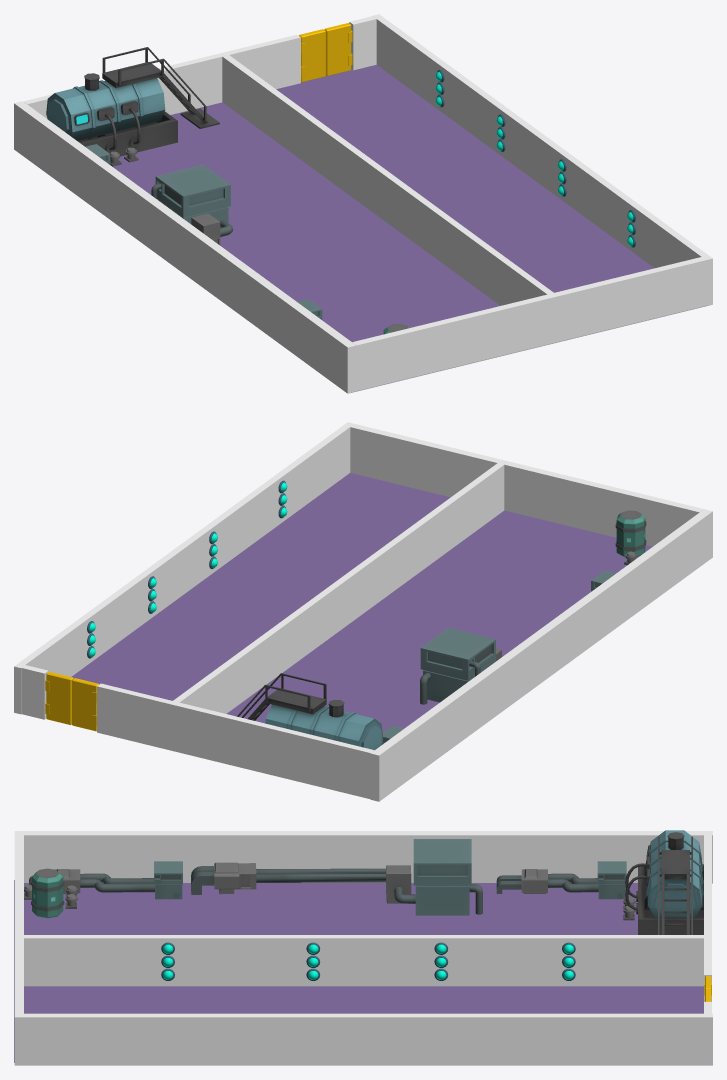
File: maps_37.fbx
The picture shows the model from 3 angles, top to bottom: view 1: azimuth 30°, elevation 25°; view 2: azimuth 150°, elevation 25°; view 3: azimuth 270°, elevation 25°; orthographic projection. The views are drawn at different scales.
Visible parts, largest first — view 1: wall_01_08_geo, wall_01_07_geo, wall_01_05_geo, wall_01_11_geo3, wall_01_06_geo, tankwater_geo, wall_01_09_geo, generatorStation_05_geo, polySurface161, wall_01_10_geo, polySurface165, generatorStation_03_geo; view 2: wall_01_08_geo, wall_01_07_geo, wall_01_11_geo3, wall_01_06_geo, wall_01_05_geo, wall_01_09_geo, tankwater_geo, generatorStation_05_geo, wall_01_10_geo, polySurface161, tank_01_geo, polySurface165; view 3: wall_01_08_geo, wall_01_06_geo, wall_01_11_geo3, wall_01_07_geo, tankwater_geo, generatorStation_05_geo, generatorStation_03_geo, generatorStation_04_geo2, generatorStation_04_geo, wall_01_05_geo, tank_01_geo, wall_01_09_geo.
Part boxes in pixels (left/top/right/bottom): wall_01_08_geo: left=110, top=64, right=708, bottom=392; wall_01_07_geo: left=14, top=101, right=356, bottom=393; wall_01_05_geo: left=352, top=257, right=706, bottom=391; wall_01_11_geo3: left=222, top=55, right=553, bottom=305; wall_01_06_geo: left=372, top=14, right=712, bottom=306; tankwater_geo: left=46, top=47, right=219, bottom=156; wall_01_09_geo: left=23, top=34, right=300, bottom=118; generatorStation_05_geo: left=151, top=164, right=230, bottom=237; polySurface161: left=324, top=23, right=352, bottom=75; wall_01_10_geo: left=349, top=16, right=376, bottom=70; polySurface165: left=299, top=29, right=325, bottom=82; generatorStation_03_geo: left=191, top=213, right=232, bottom=245; wall_01_08_geo: left=71, top=473, right=652, bottom=732; wall_01_07_geo: left=370, top=509, right=712, bottom=801; wall_01_11_geo3: left=173, top=463, right=504, bottom=713; wall_01_06_geo: left=14, top=422, right=354, bottom=714; wall_01_05_geo: left=350, top=424, right=703, bottom=546; wall_01_09_geo: left=97, top=683, right=374, bottom=798; tankwater_geo: left=237, top=673, right=383, bottom=750; generatorStation_05_geo: left=420, top=628, right=495, bottom=704; wall_01_10_geo: left=21, top=665, right=48, bottom=719; polySurface161: left=45, top=672, right=73, bottom=725; tank_01_geo: left=615, top=510, right=646, bottom=557; polySurface165: left=72, top=678, right=98, bottom=731; wall_01_08_geo: left=14, top=880, right=703, bottom=1062; wall_01_06_geo: left=14, top=1013, right=712, bottom=1065; wall_01_11_geo3: left=24, top=935, right=703, bottom=986; wall_01_07_geo: left=14, top=831, right=712, bottom=883; tankwater_geo: left=625, top=830, right=703, bottom=934; generatorStation_05_geo: left=413, top=839, right=482, bottom=915; generatorStation_03_geo: left=191, top=862, right=415, bottom=903; generatorStation_04_geo2: left=496, top=861, right=626, bottom=899; generatorStation_04_geo: left=29, top=861, right=182, bottom=899; wall_01_05_geo: left=14, top=835, right=23, bottom=1013; tank_01_geo: left=31, top=868, right=64, bottom=918; wall_01_09_geo: left=704, top=835, right=711, bottom=1001.
Bounding box in the file's own units: 73.34 × 15.59 × 116.
6 materials, 6 textured.
